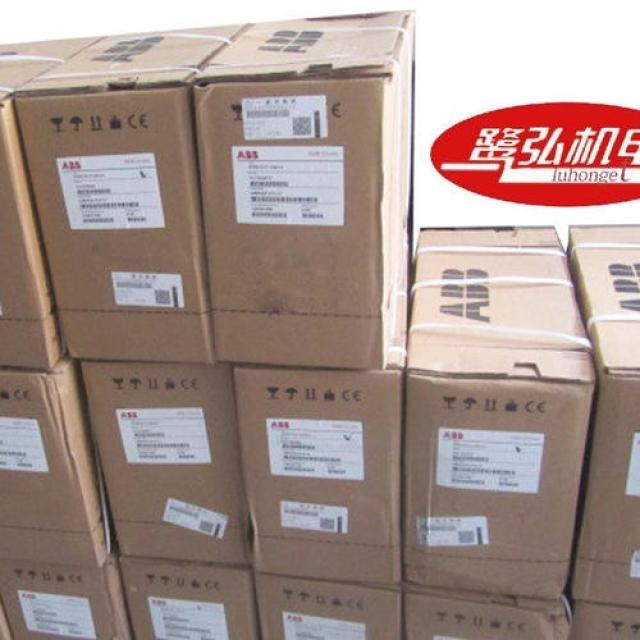box: (12, 23, 252, 363), (193, 11, 415, 369), (402, 225, 595, 598), (232, 251, 408, 583), (79, 359, 253, 566), (0, 35, 107, 370), (566, 225, 639, 607), (0, 353, 116, 569), (0, 543, 134, 638), (118, 554, 260, 638), (401, 579, 571, 638), (254, 570, 401, 638), (568, 598, 638, 639)
